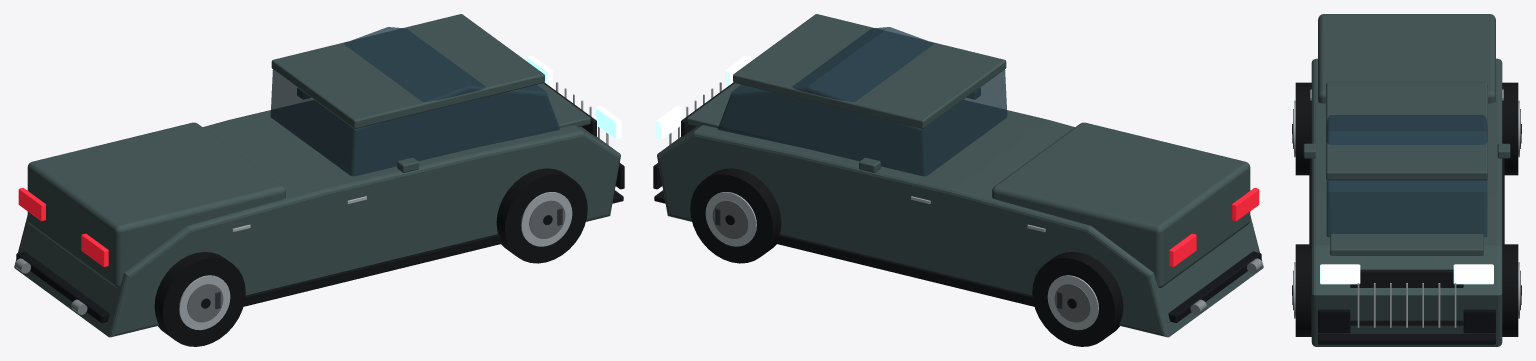
File: chevy_silverado_zr2.glb
3 renders of one model, left to right at view 1: azimuth 30°, elevation 25°; view 2: azimuth 150°, elevation 25°; view 3: azimuth 270°, elevation 25°, orthographic. The views are drawn at different scales.
Visible parts, largest first — view 1: sculpted_body, pickup_bed, cab, cab_roof, hood_center, rear_right_wheel_tire, front_right_wheel_tire, side_skirt_1, rear_diffuser, rear_right_wheel_rim, front_right_wheel_rim, rear_right_wheel_disc (+4 smaller); view 2: sculpted_body, pickup_bed, cab, cab_roof, hood_center, rear_left_wheel_tire, front_left_wheel_tire, side_skirt_-1, rear_diffuser, rear_left_wheel_rim, front_left_wheel_rim, rear_left_wheel_disc (+4 smaller); view 3: cab_roof, sculpted_body, cab, pickup_bed, hood_center, front_grille, front_splitter, front_left_wheel_tire, front_right_wheel_tire, rear_left_wheel_tire, rear_right_wheel_tire, headlight_left (+7 smaller).
Part boxes in pixels (x1=…): sculpted_body: x1=14, y1=100, x2=620, y2=337; pickup_bed: x1=27, y1=122, x2=285, y2=287; cab: x1=270, y1=27, x2=559, y2=176; cab_roof: x1=271, y1=14, x2=544, y2=128; hood_center: x1=399, y1=83, x2=590, y2=151; rear_right_wheel_tire: x1=154, y1=252, x2=245, y2=346; front_right_wheel_tire: x1=496, y1=168, x2=587, y2=263; side_skirt_1: x1=243, y1=234, x2=502, y2=306; rear_diffuser: x1=16, y1=251, x2=109, y2=322; rear_right_wheel_rim: x1=179, y1=275, x2=230, y2=330; front_right_wheel_rim: x1=521, y1=192, x2=572, y2=246; rear_right_wheel_disc: x1=187, y1=284, x2=223, y2=322; sculpted_body: x1=657, y1=100, x2=1263, y2=337; pickup_bed: x1=992, y1=122, x2=1250, y2=287; cab: x1=718, y1=27, x2=1007, y2=176; cab_roof: x1=733, y1=14, x2=1006, y2=128; hood_center: x1=687, y1=83, x2=878, y2=151; rear_left_wheel_tire: x1=1032, y1=252, x2=1123, y2=346; front_left_wheel_tire: x1=690, y1=168, x2=781, y2=263; side_skirt_-1: x1=775, y1=234, x2=1034, y2=306; rear_diffuser: x1=1168, y1=251, x2=1261, y2=322; rear_left_wheel_rim: x1=1047, y1=275, x2=1098, y2=330; front_left_wheel_rim: x1=705, y1=192, x2=756, y2=246; rear_left_wheel_disc: x1=1054, y1=284, x2=1090, y2=322; cab_roof: x1=1326, y1=82, x2=1487, y2=180; sculpted_body: x1=1311, y1=58, x2=1502, y2=346; cab: x1=1326, y1=115, x2=1487, y2=237; pickup_bed: x1=1318, y1=14, x2=1495, y2=103; hood_center: x1=1330, y1=181, x2=1483, y2=255; front_grille: x1=1350, y1=269, x2=1463, y2=325; front_splitter: x1=1318, y1=334, x2=1495, y2=344; front_left_wheel_tire: x1=1502, y1=244, x2=1518, y2=336; front_right_wheel_tire: x1=1295, y1=244, x2=1311, y2=336; rear_left_wheel_tire: x1=1502, y1=82, x2=1518, y2=175; rear_right_wheel_tire: x1=1295, y1=82, x2=1311, y2=175; headlight_left: x1=1453, y1=264, x2=1493, y2=284.
Size of the model in its own units: 6.08 by 1.94 by 2.33.
